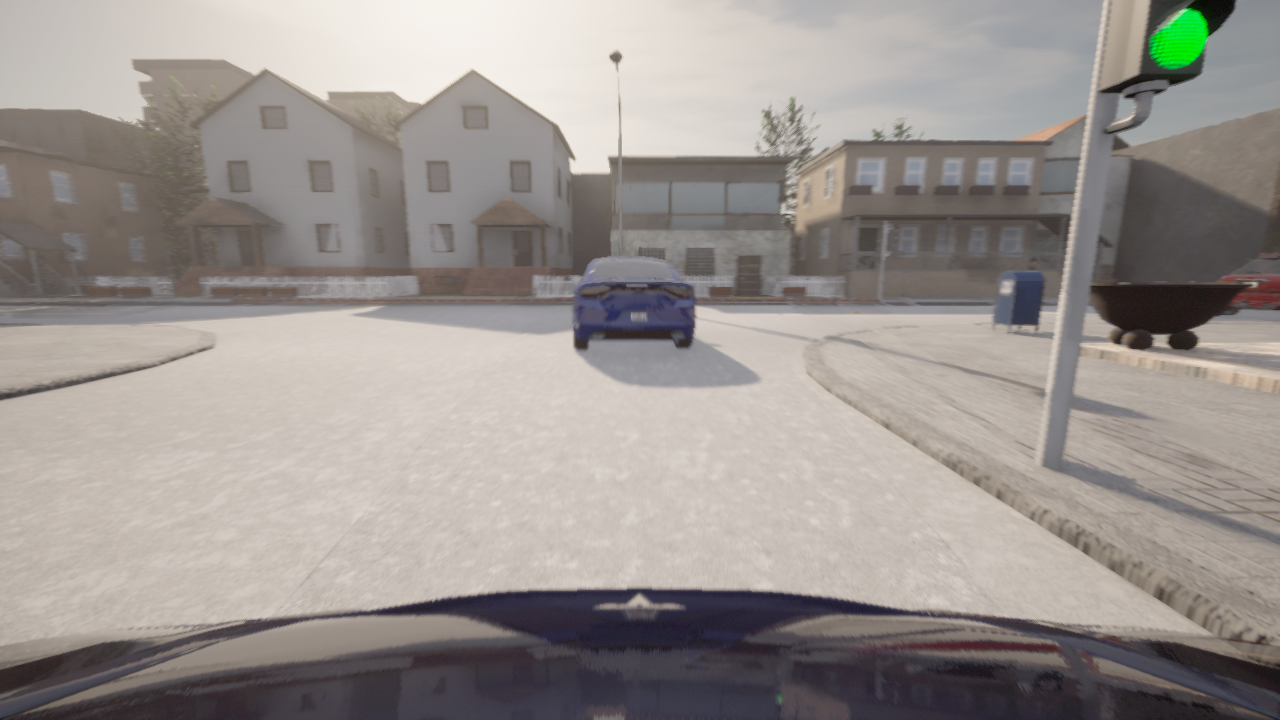cyclist: (0, 588, 1279, 719), (572, 254, 695, 349), (1216, 256, 1279, 315)
pedestrian: (1028, 256, 1039, 270)
